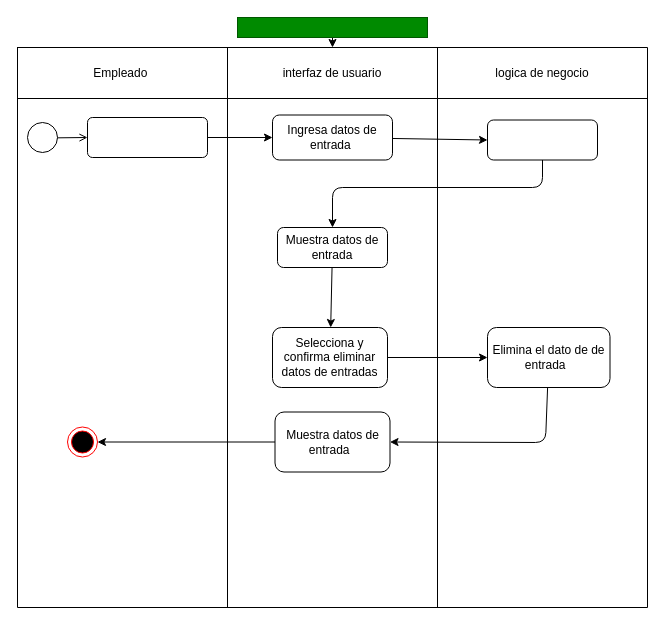
Image size: 665x625. Some labels were removed from this diagram. The centre of each missing label's shape, as x and y in pixels:
"Consulta datos de entrada" goes at pixel 542 139.
"DAE.10.3.ELIMINAR SHUTTLE" goes at pixel 332 27.
"Ingresa tipo de viaje" goes at pixel 147 137.
